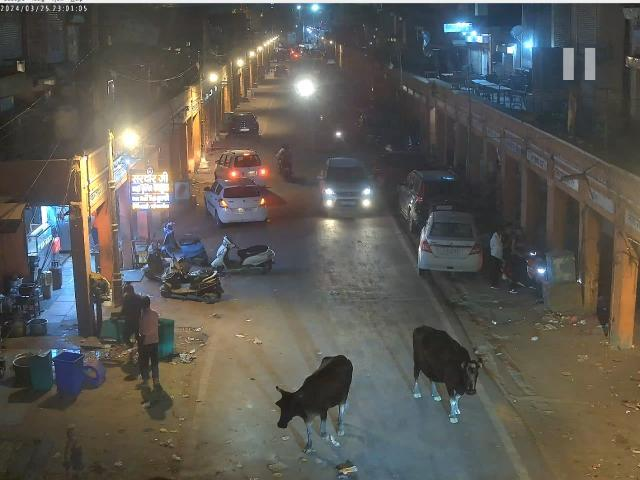car: (394, 168, 474, 226), (418, 211, 483, 276), (317, 156, 375, 214), (203, 178, 269, 227), (211, 147, 265, 186), (228, 110, 259, 138)
cattle: (276, 355, 354, 452), (412, 325, 482, 424)
license_plate: (441, 248, 461, 254), (340, 201, 357, 206), (236, 208, 254, 212), (436, 206, 453, 210), (240, 128, 250, 132)
no_helmet: (514, 226, 523, 237)
person: (132, 293, 160, 387), (112, 284, 140, 352)
scooty: (158, 254, 224, 303), (210, 234, 278, 276), (162, 214, 208, 266), (142, 238, 186, 280)
scooty-rider: (504, 223, 548, 295)
